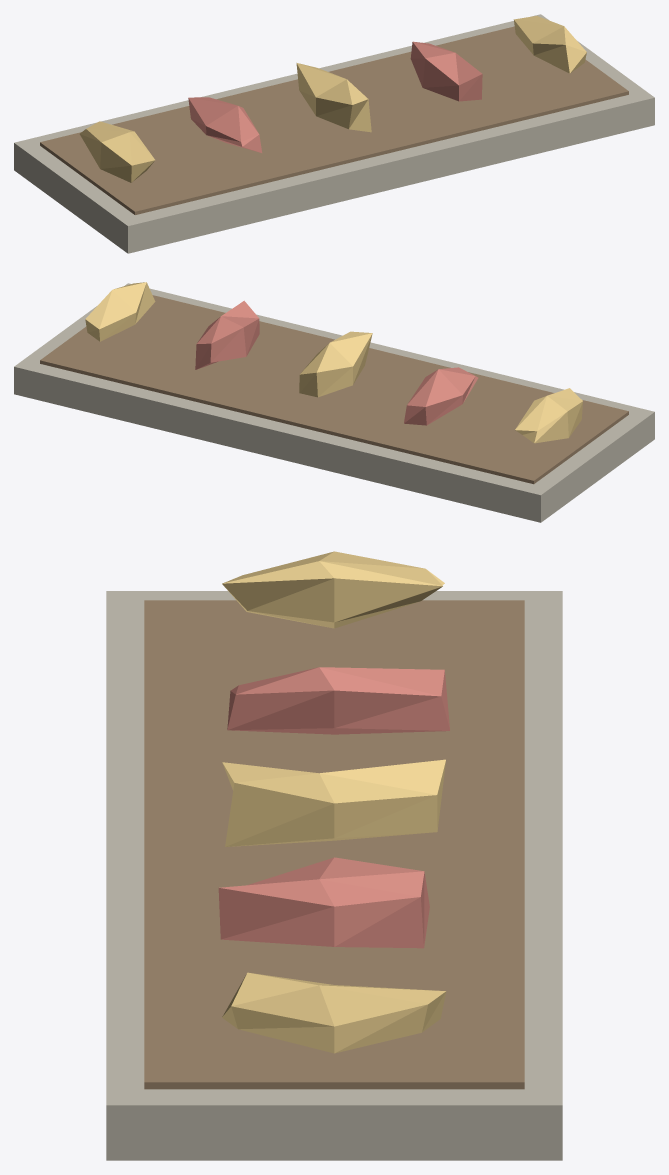
3 views of the same model, one above another, from view 1: azimuth 30°, elevation 25°; view 2: azimuth 150°, elevation 25°; view 3: azimuth 270°, elevation 25° (orthographic). The views are drawn at different scales.
Bounding box in the file's own units: 8 × 1 × 3.
